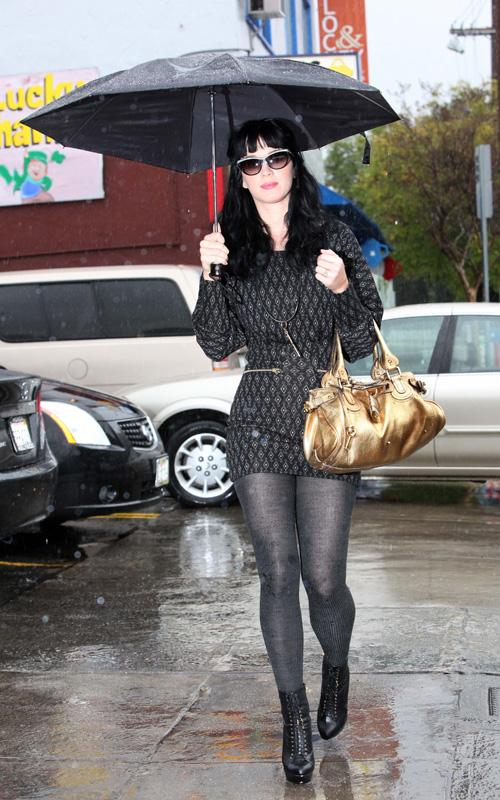person: (192, 114, 382, 788)
